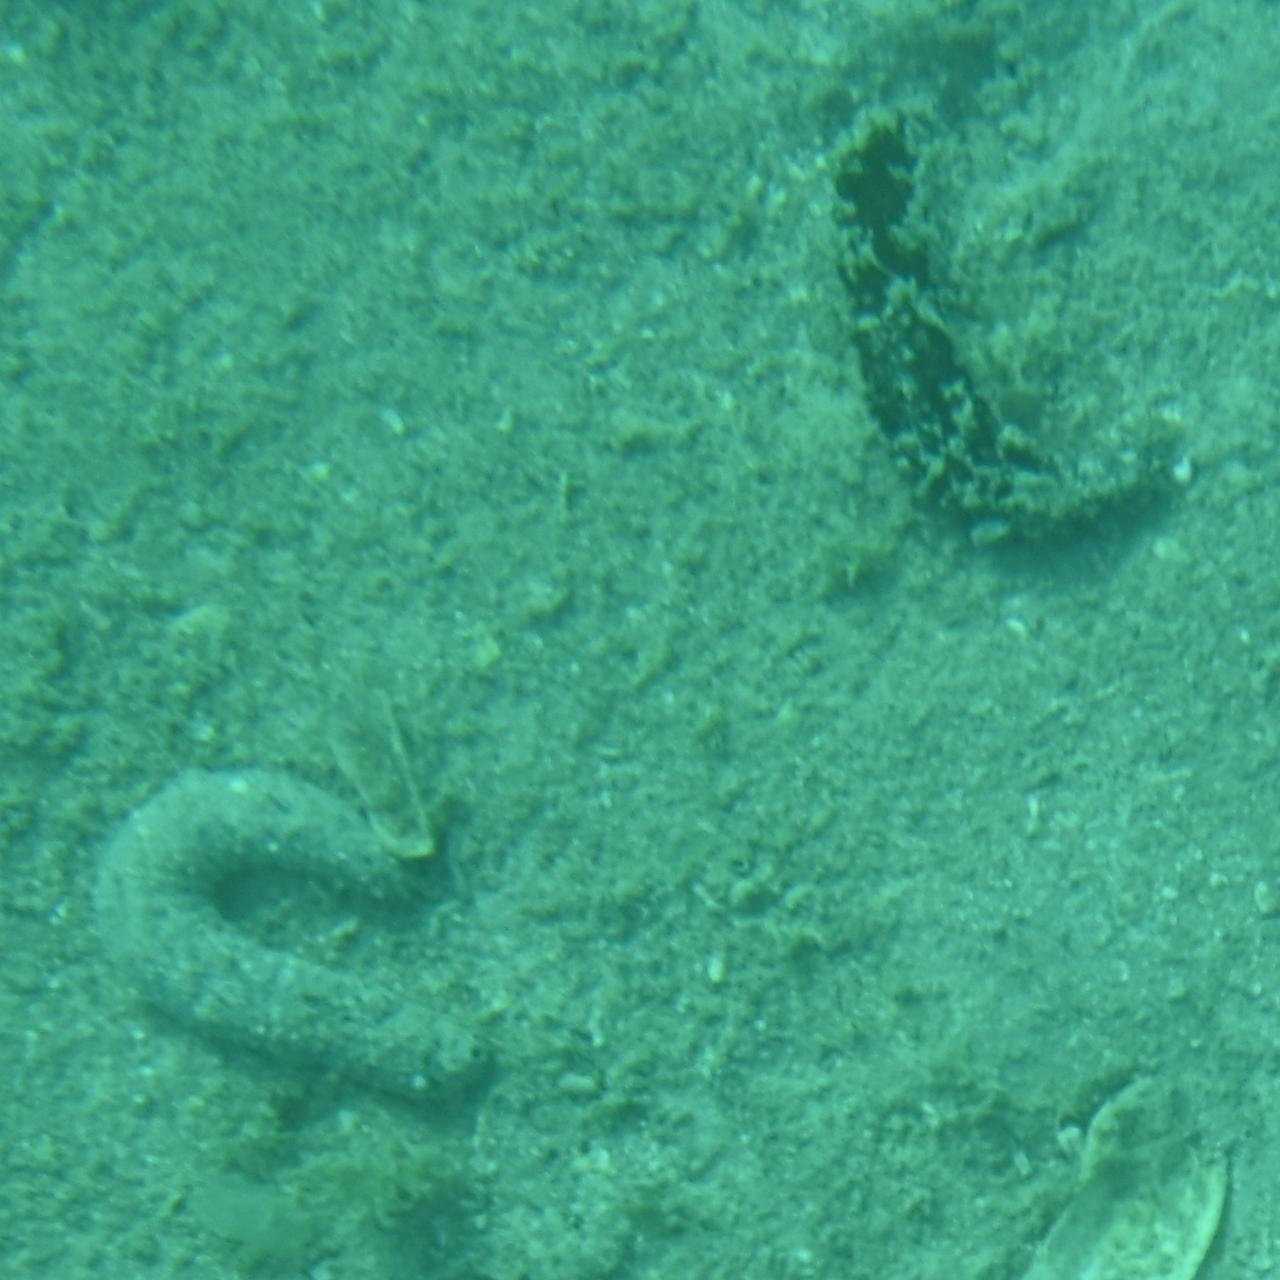Holothuria tubulosa: (810, 104, 1198, 576), (56, 763, 496, 1117)
